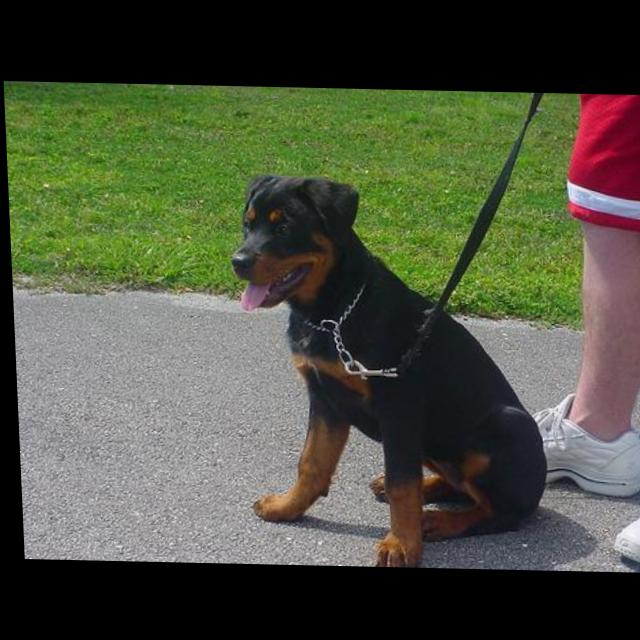person: (516, 91, 640, 571)
rottweiler: (224, 171, 547, 570)
